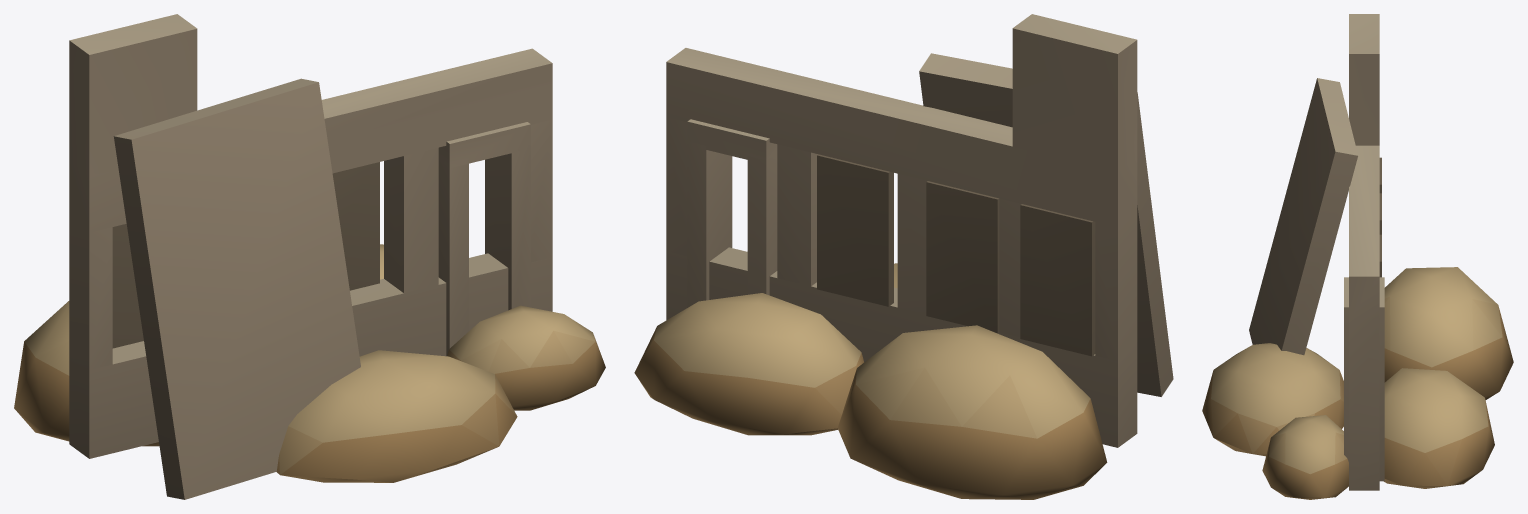
File: landmark_desert.glb
The picture shows the model from 3 angles, left to right: view 1: azimuth 30°, elevation 25°; view 2: azimuth 150°, elevation 25°; view 3: azimuth 270°, elevation 25°; orthographic projection. The views are drawn at different scales.
Visible parts, largest first — view 1: landmark_desert; view 2: landmark_desert; view 3: landmark_desert.
Boxes of the visible parts, box(x1,y1,x2,y2) form: landmark_desert: box(14, 14, 605, 499); landmark_desert: box(634, 14, 1173, 499); landmark_desert: box(1202, 14, 1513, 499).
Size of the model in its own units: 6.35 by 5.17 by 4.62.
